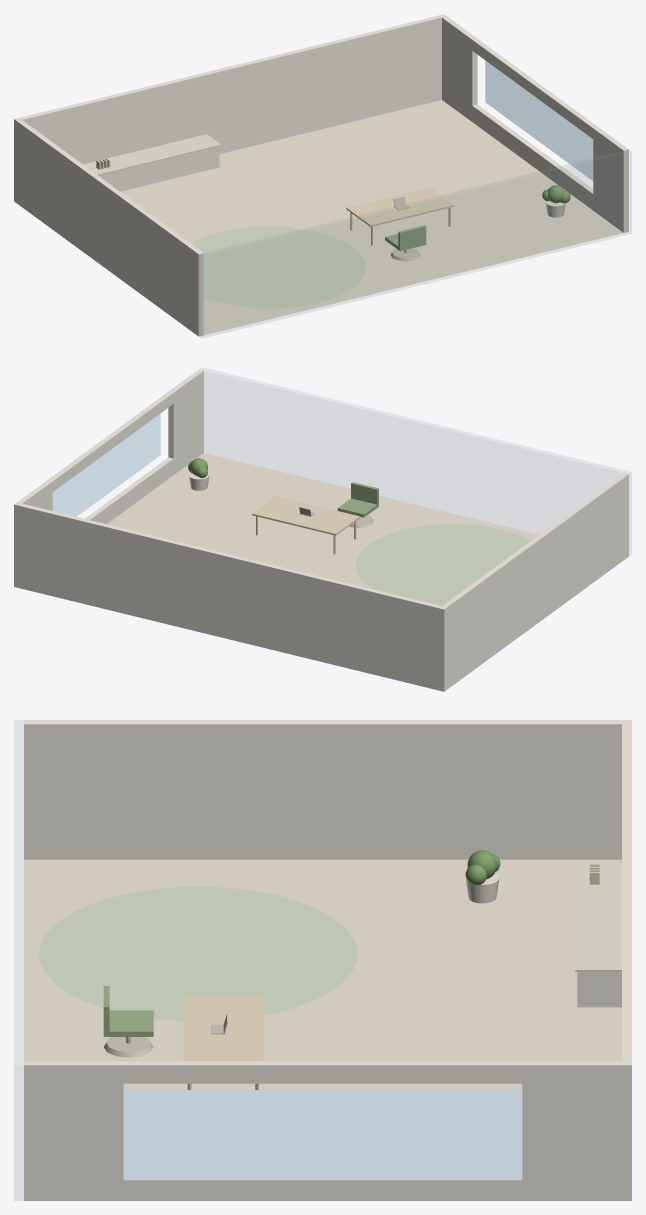
The model's file is office.glb.
3 renders of one model, top to bottom at view 1: azimuth 30°, elevation 25°; view 2: azimuth 150°, elevation 25°; view 3: azimuth 270°, elevation 25°, orthographic. The views are drawn at different scales.
Parts seen in each view (by area): view 1: floor, wall-south-glass, wall-north-body, wall-west-body, rug, window-sky, wall-east-jamb-s, wall-east-jamb-n, wall-east-sill, cabinet-body, desk-top, wall-east-lintel (+2 smaller); view 2: wall-north-body, wall-south-glass, floor, wall-west-body, rug, window-sky, wall-east-jamb-s, desk-top, wall-east-lintel, wall-east-sill, wall-east-jamb-n, chair-seat (+1 smaller); view 3: wall-west-body, floor, window-sky, rug, wall-east-jamb-n, wall-east-jamb-s, wall-east-lintel, wall-east-sill, desk-top, cabinet-top, wall-north-body, wall-south-glass (+4 smaller).
Boxes of the visible parts, x1=… form: floor: x1=120, y1=100, x2=623, y2=335; wall-south-glass: x1=199, y1=150, x2=631, y2=337; wall-north-body: x1=14, y1=14, x2=446, y2=203; wall-west-body: x1=17, y1=120, x2=203, y2=336; rug: x1=191, y1=226, x2=365, y2=308; window-sky: x1=485, y1=60, x2=593, y2=180; wall-east-jamb-s: x1=593, y1=127, x2=628, y2=232; wall-east-jamb-n: x1=442, y1=16, x2=477, y2=121; wall-east-sill: x1=472, y1=104, x2=593, y2=210; cabinet-body: x1=99, y1=146, x2=219, y2=191; desk-top: x1=346, y1=187, x2=454, y2=226; wall-east-lintel: x1=472, y1=38, x2=598, y2=138; wall-north-body: x1=14, y1=502, x2=447, y2=691; wall-south-glass: x1=200, y1=368, x2=631, y2=555; floor: x1=107, y1=453, x2=538, y2=605; wall-west-body: x1=442, y1=473, x2=628, y2=689; rug: x1=355, y1=524, x2=530, y2=605; window-sky: x1=52, y1=413, x2=160, y2=516; wall-east-jamb-s: x1=168, y1=369, x2=203, y2=474; desk-top: x1=252, y1=496, x2=359, y2=535; wall-east-lintel: x1=47, y1=391, x2=173, y2=491; wall-east-sill: x1=85, y1=457, x2=173, y2=523; wall-east-jamb-n: x1=17, y1=480, x2=52, y2=510; chair-seat: x1=337, y1=498, x2=378, y2=517; wall-west-body: x1=24, y1=720, x2=621, y2=859; floor: x1=24, y1=859, x2=621, y2=1089; window-sky: x1=123, y1=1090, x2=522, y2=1180; rug: x1=39, y1=886, x2=357, y2=1020; wall-east-jamb-n: x1=522, y1=1061, x2=621, y2=1200; wall-east-jamb-s: x1=24, y1=1061, x2=123, y2=1200; wall-east-lintel: x1=123, y1=1061, x2=522, y2=1083; wall-east-sill: x1=123, y1=1180, x2=522, y2=1200; desk-top: x1=183, y1=996, x2=263, y2=1061; cabinet-top: x1=575, y1=863, x2=621, y2=971; wall-north-body: x1=622, y1=720, x2=631, y2=1200; wall-south-glass: x1=14, y1=720, x2=23, y2=1200.
Size of the model in its own units: 16.7 by 3 by 12.4.
